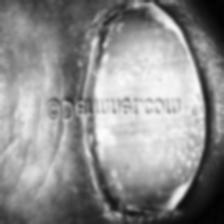Toxin: (78, 0, 207, 224)
